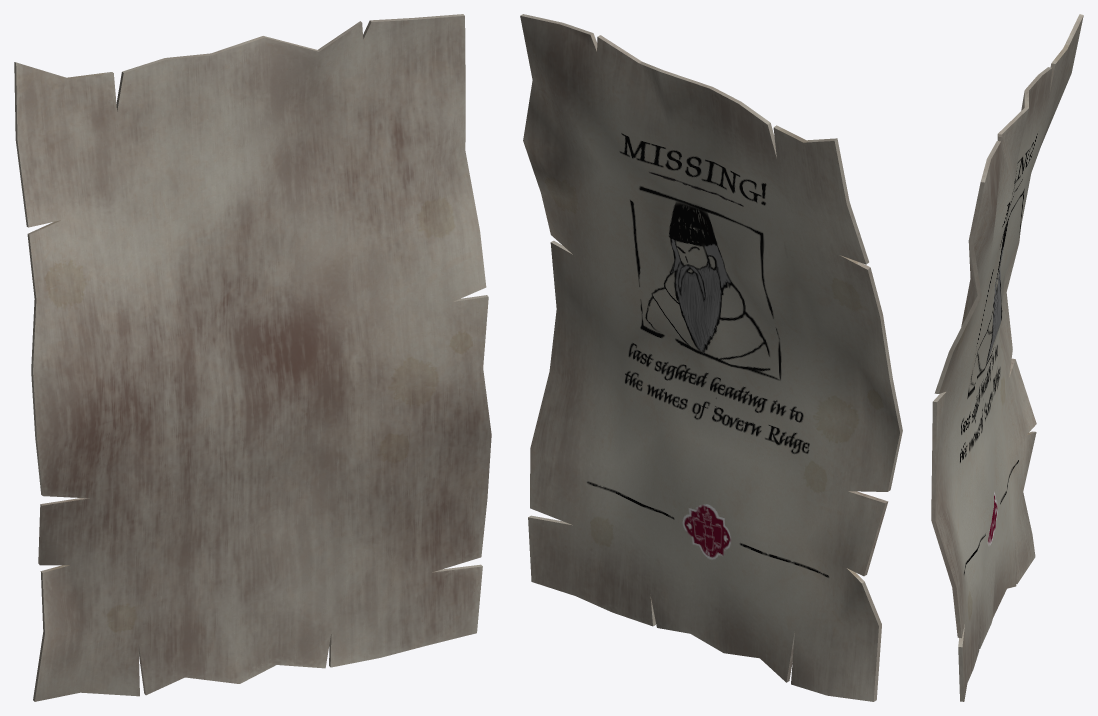
Rendered from call to adventure.fbx.
3 renders of one model, left to right at view 1: azimuth 30°, elevation 25°; view 2: azimuth 150°, elevation 25°; view 3: azimuth 270°, elevation 25°, orthographic. The views are drawn at different scales.
Visible parts, largest first — view 1: Page_LP.002; view 2: Page_LP.002; view 3: Page_LP.002.
Part boxes in pixels (x1,y1,x2,y2): Page_LP.002: (14,14,491,701); Page_LP.002: (520,14,902,701); Page_LP.002: (931,14,1083,701).
Bounding box in the file's own units: 7.56 × 20.6 × 29.31.
1 material, 1 textured.
